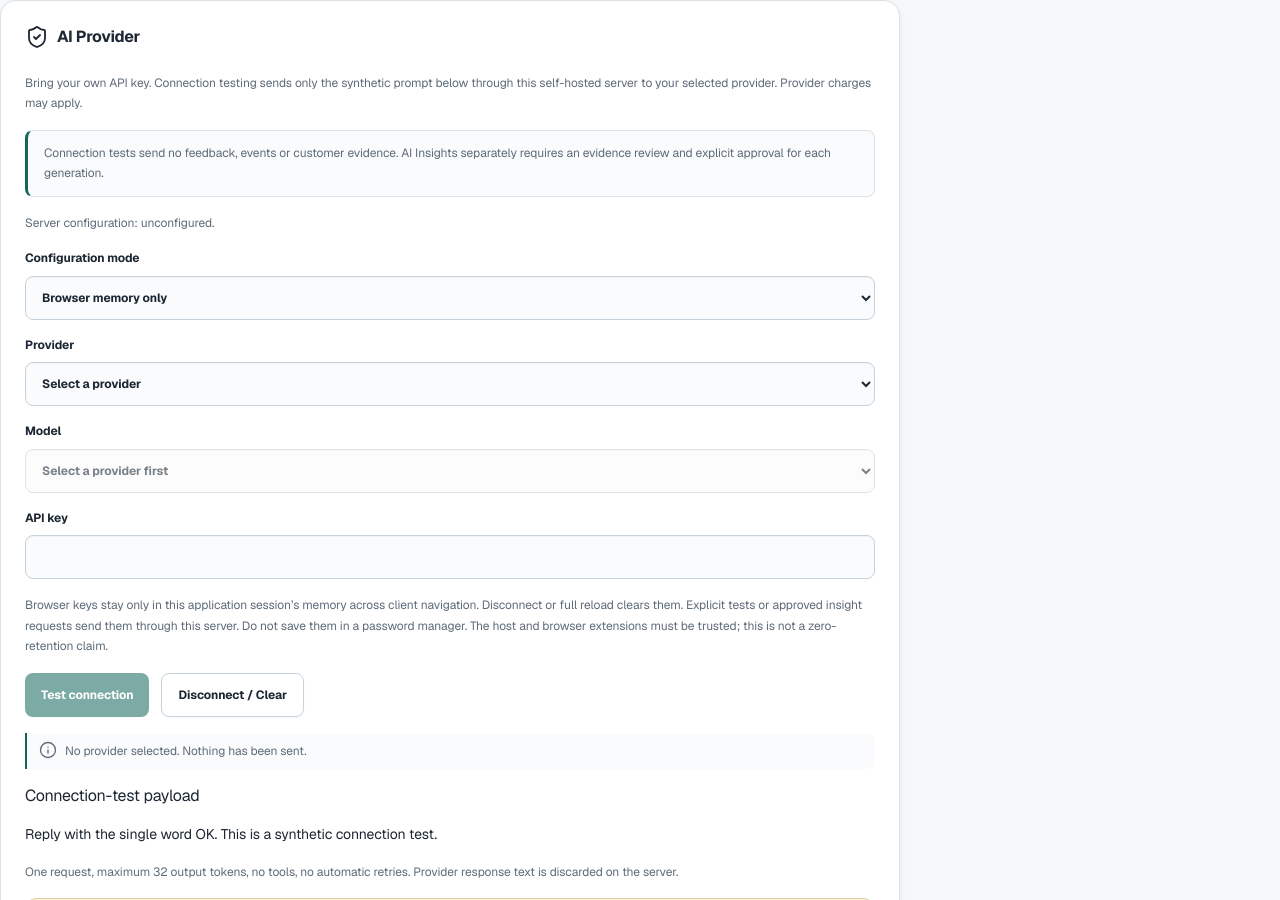
Groq Settings displays and submits the exact prefixed replacement model
This screenshot has width=1280, height=900.
Expected: the text "Server configuration: unconfigured." is shown, [25,215,214,231]
Select "Groq" in the dropdown labelled "Provider". click: (450, 384)
box: [25,362,875,406]
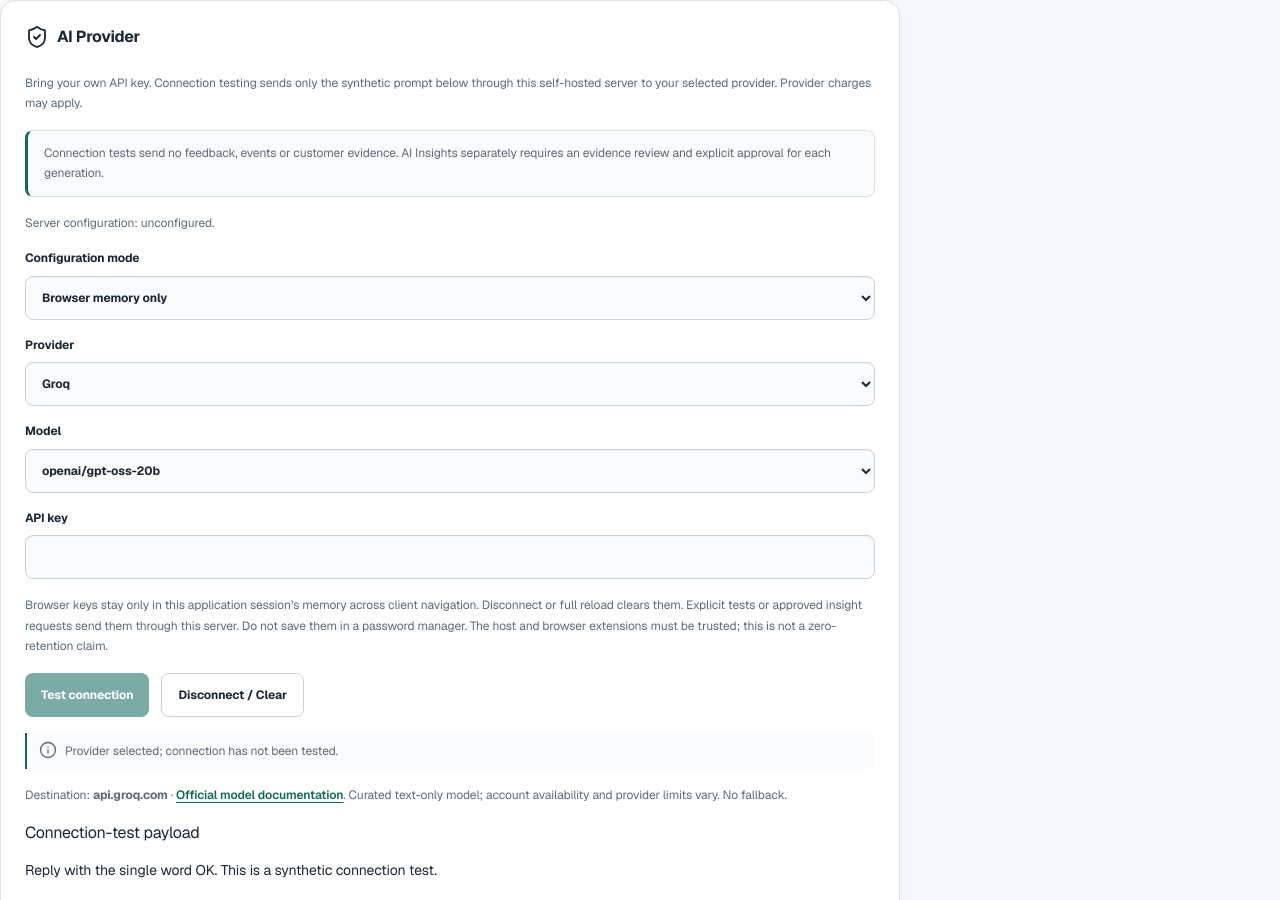
Result: the dropdown labelled "Model" shows "openai/gpt-oss-20b" at [25,449,875,493]
Type "unit-test-value-not-a-credential" into the password field labelled "API key". click: (450, 557)
box: [25,535,875,579]
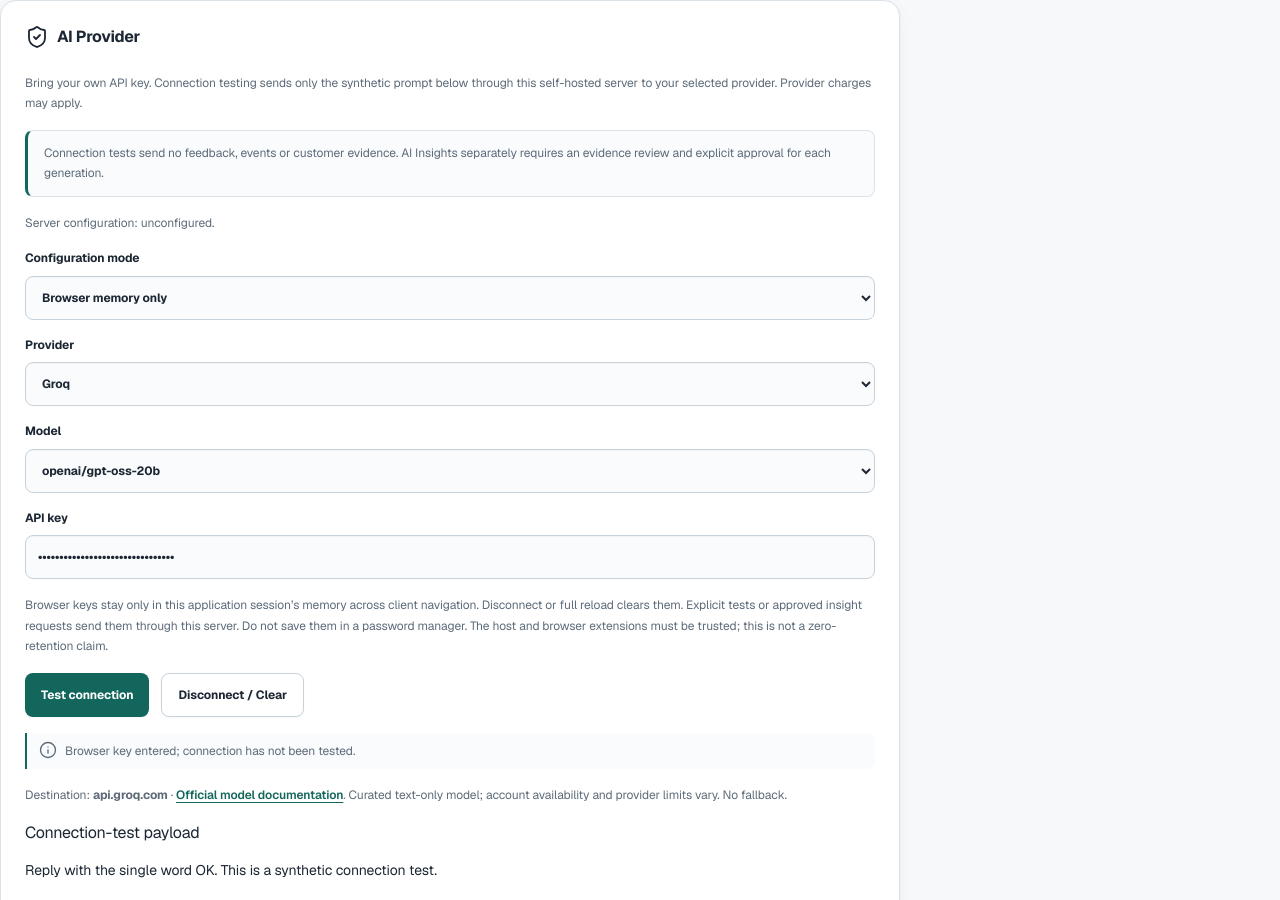
Click the button "Test connection". click: (87, 695)
box: [25,673,150,717]
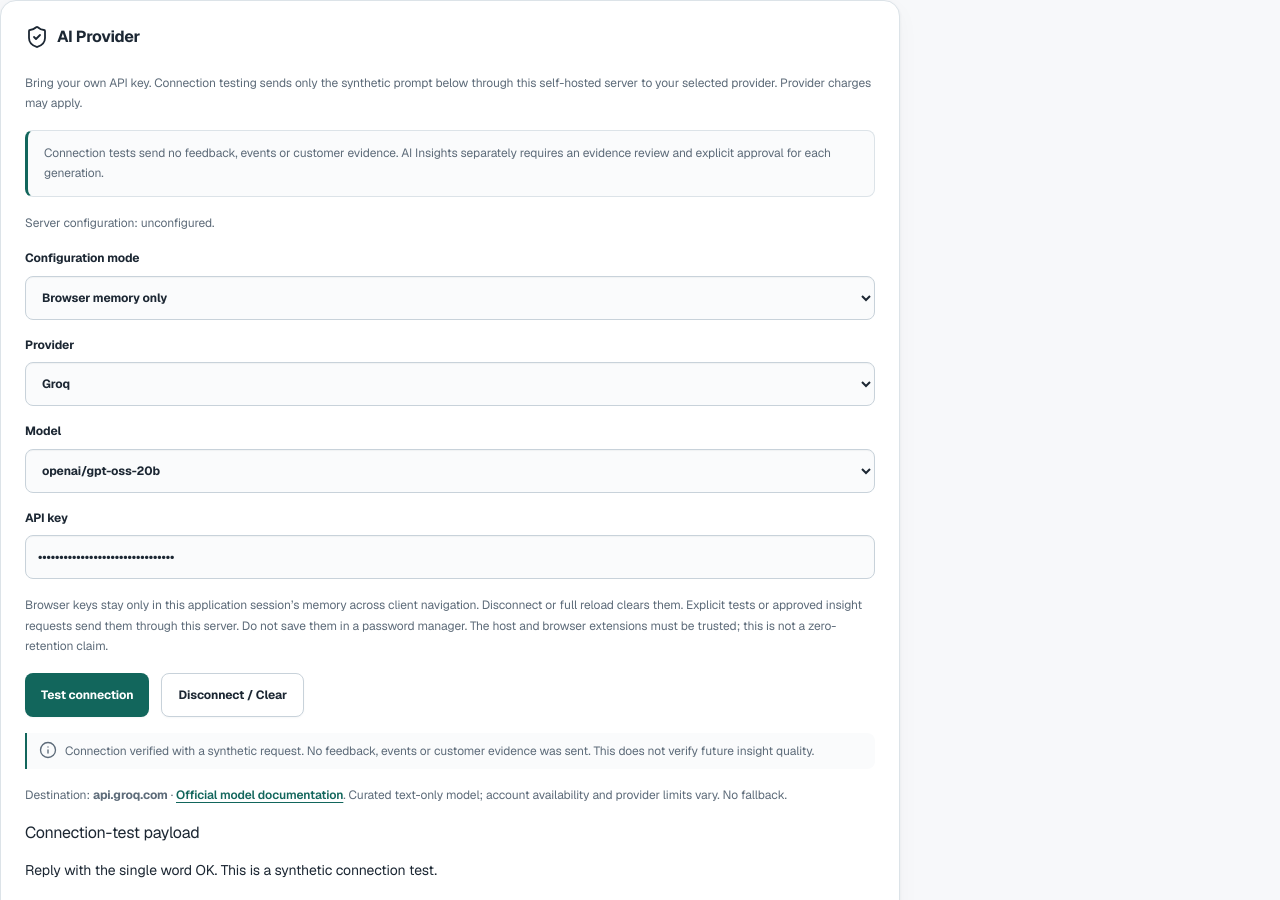
Result: the text "Connection verified with a synthetic request" is shown at [65,743,814,759]
